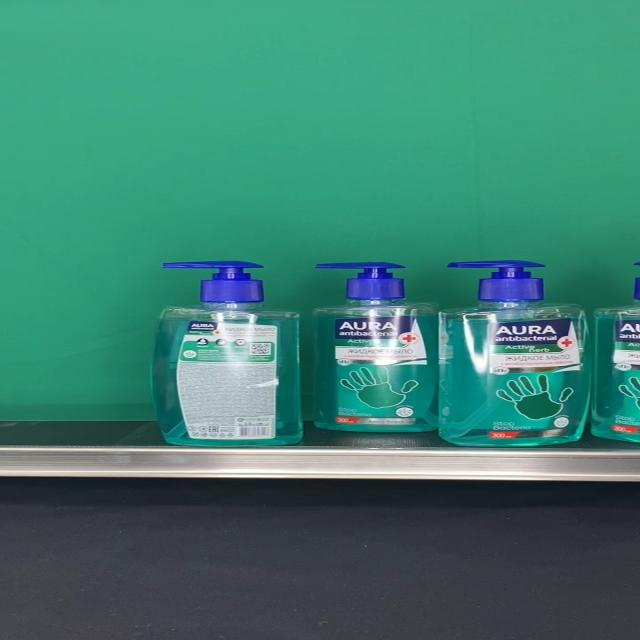Bottle: (437, 260, 593, 447), (150, 261, 303, 446), (314, 262, 439, 432)
Cap: (161, 261, 265, 303), (445, 261, 546, 303), (314, 262, 409, 300)
